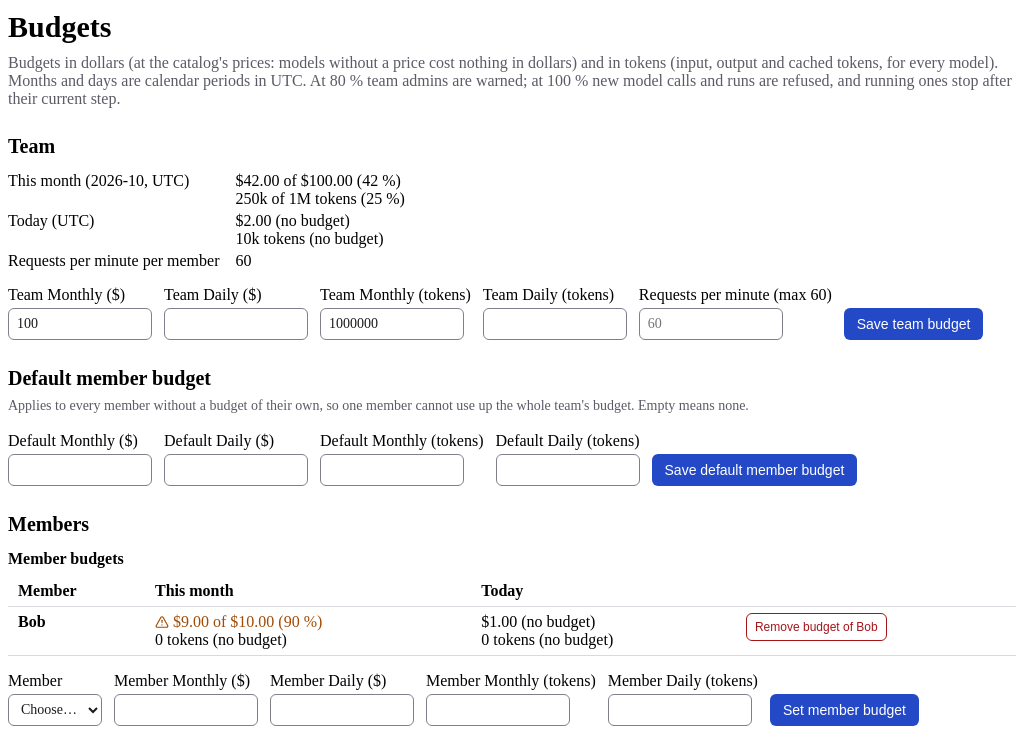
Test: team budgets page (KOBE-42) › shows dollar and token spend and saves the team's budgets and rate
Expected: the text "$42.00 of $100.00 (42 %)" is shown, x1=236 y1=172 x2=401 y2=188
Expected: the text "250k of 1M tokens (25 %)" is shown, x1=236 y1=190 x2=405 y2=206
Type "5.5" into the field labelled "Team Daily ($)". click: x=236, y=324
box: x1=164 y1=308 x2=308 y2=340
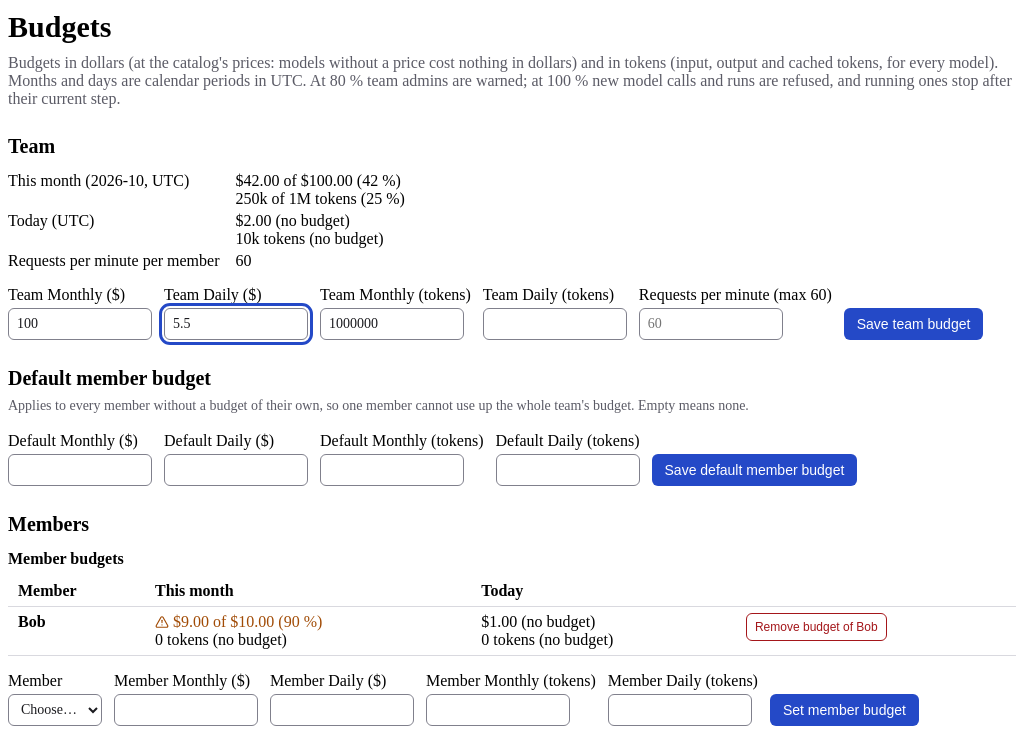
Type "200,000" into the field labelled "Team Daily (tokens)". click: x=555, y=324
box: x1=483 y1=308 x2=627 y2=340
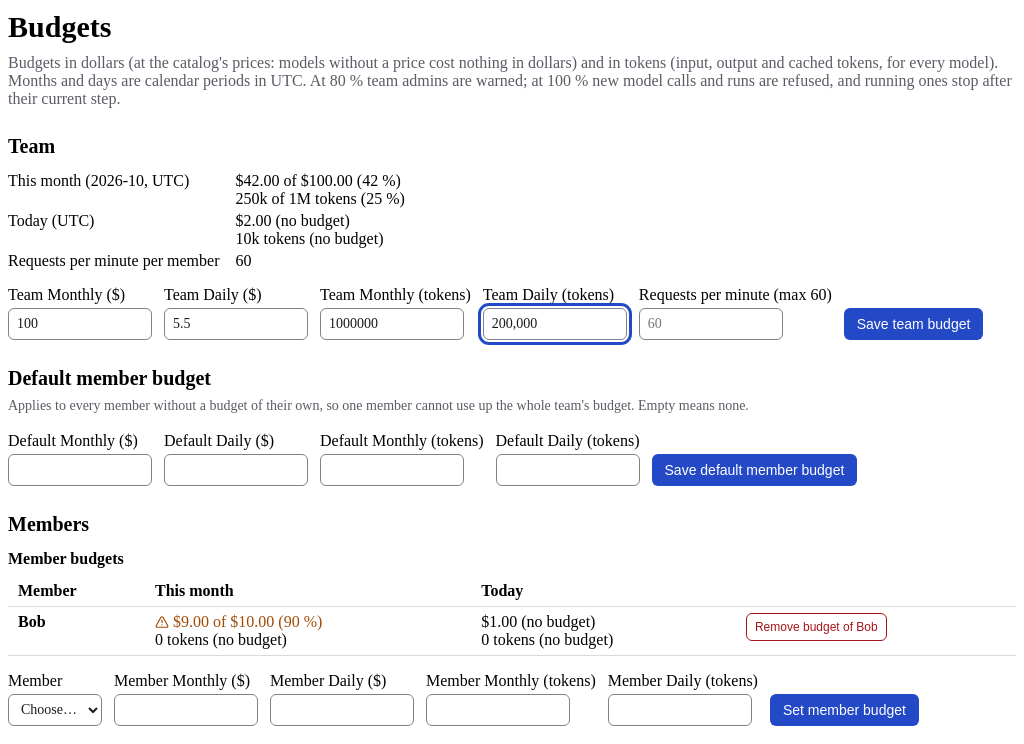
Type "20" into the field labelled "Requests per minute (max 60)". click: x=711, y=324
box: x1=639 y1=308 x2=783 y2=340
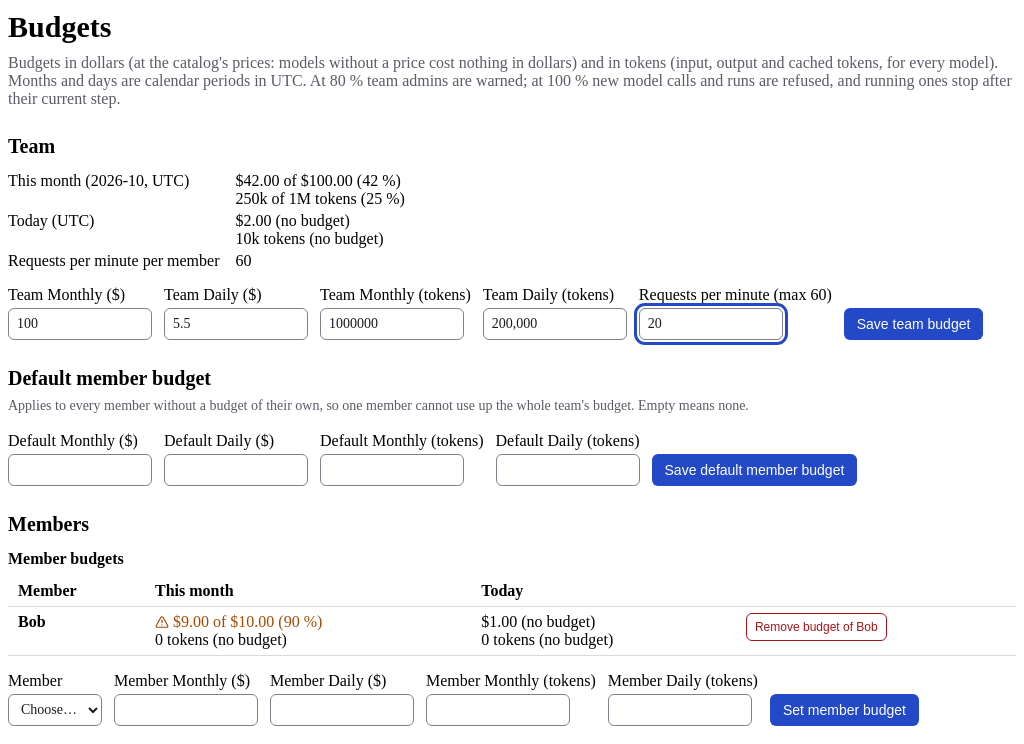
Click the button "Save team budget". click: x=914, y=324
box: x1=844 y1=308 x2=983 y2=340
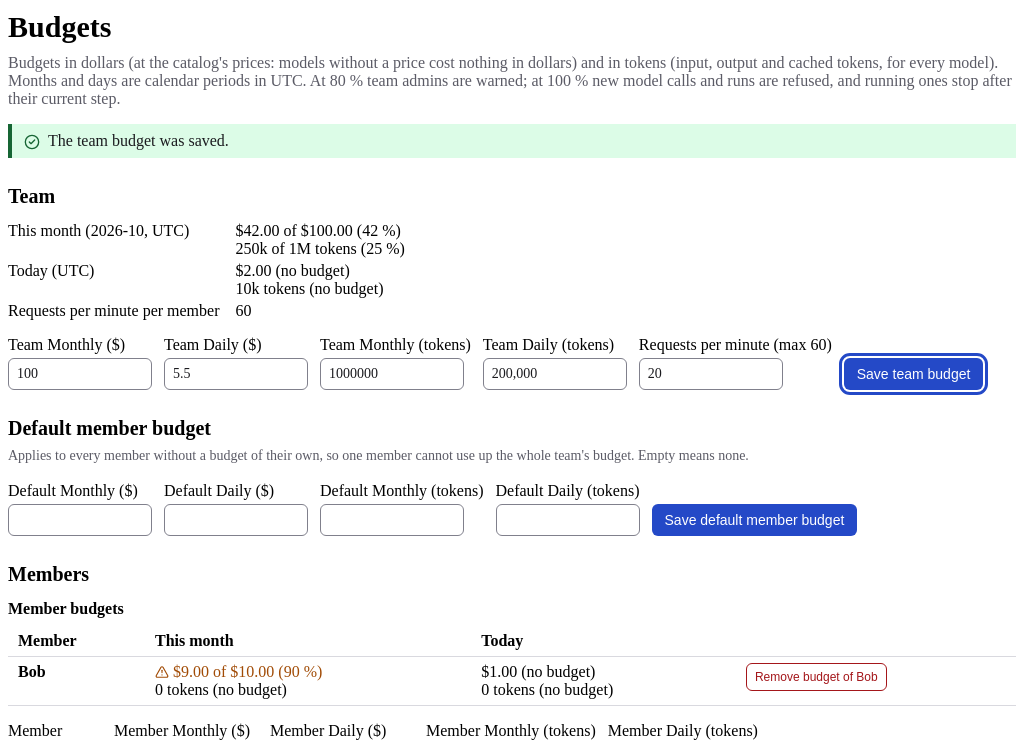
Expected: the text "The team budget was saved." is shown, x1=48 y1=132 x2=229 y2=148
